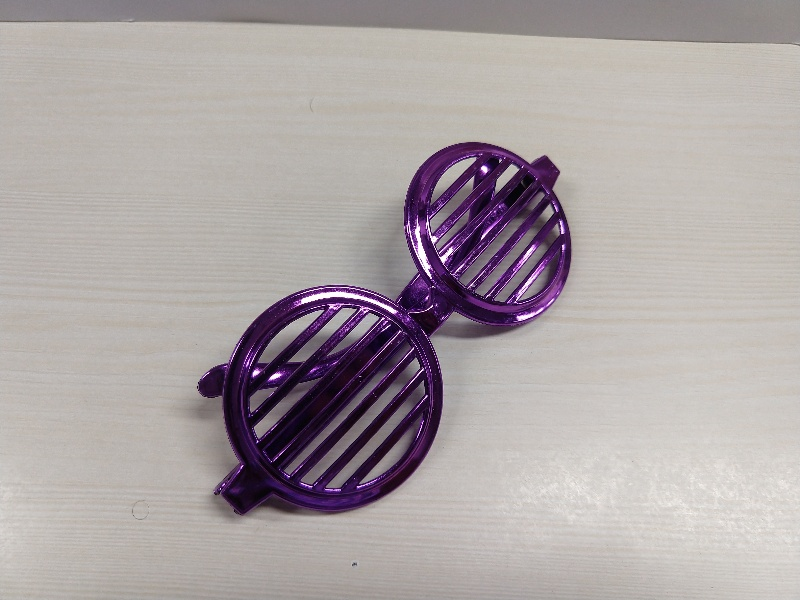shades: (190, 136, 571, 525)
